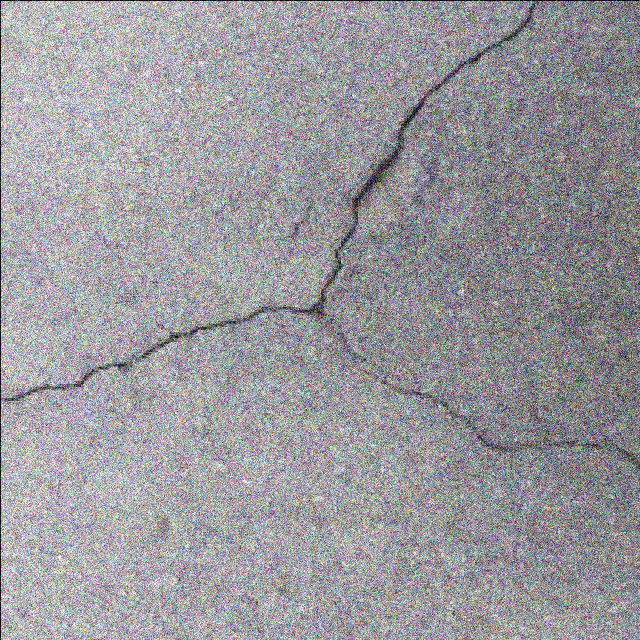SurfaceCrack: (0, 16, 638, 496)
